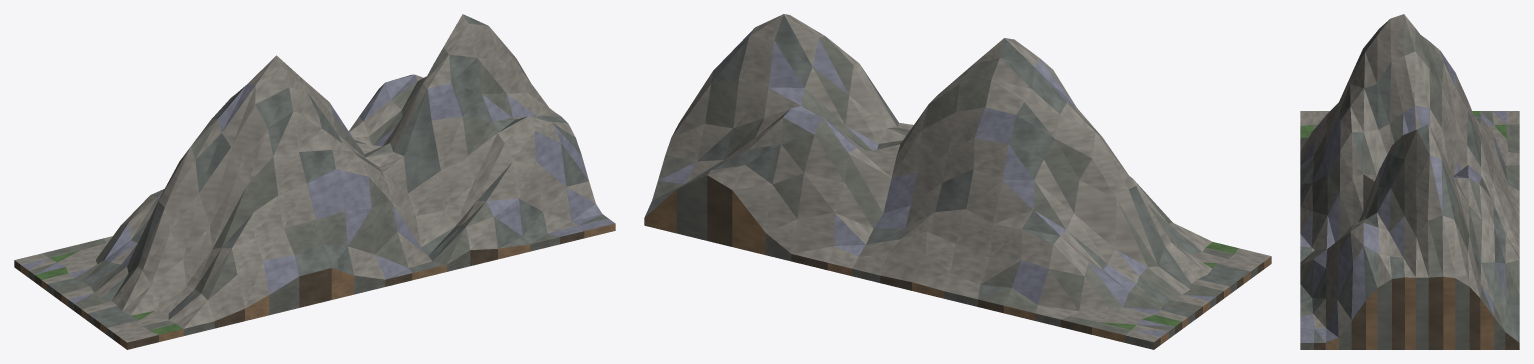
File: mountain_far_03.fbx
The picture shows the model from 3 angles, left to right: view 1: azimuth 30°, elevation 25°; view 2: azimuth 150°, elevation 25°; view 3: azimuth 270°, elevation 25°; orthographic projection. The views are drawn at different scales.
Parts seen in each view (by area): view 1: mountain_far_03; view 2: mountain_far_03; view 3: mountain_far_03.
Part boxes in pixels (x1,y1,x2,y2): mountain_far_03: (14, 14, 615, 349); mountain_far_03: (644, 14, 1271, 349); mountain_far_03: (1300, 14, 1519, 349).
Bounding box in the file's own units: 15000 × 6050 × 6000.
1 material, 1 textured.
